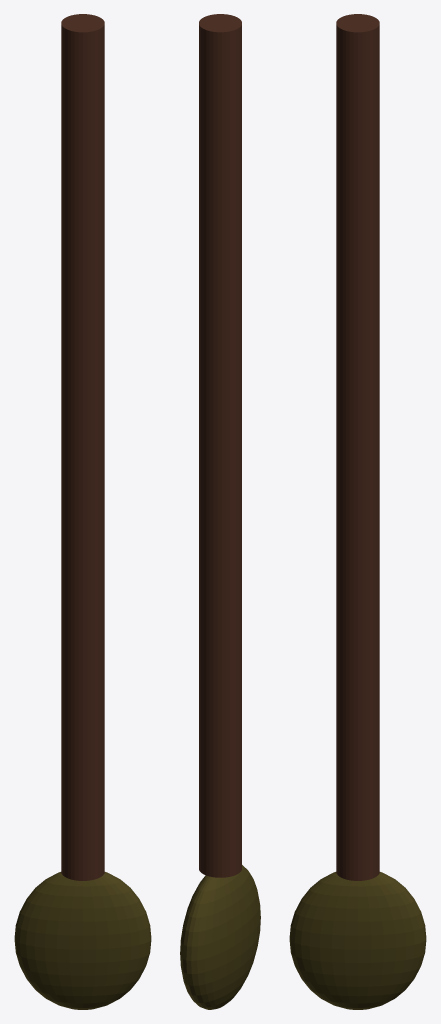
The model's file is BroomStick.fbx.
3 renders of one model, left to right at view 1: azimuth 90°, elevation 25°; view 2: azimuth 150°, elevation 25°; view 3: azimuth 270°, elevation 25°, orthographic.
Parts seen in each view (by area): view 1: Cylinder, Sphere; view 2: Cylinder, Sphere; view 3: Cylinder, Sphere.
Part boxes in pixels (<box>): Cylinder: <box>61,14,104,880</box>; Sphere: <box>14,872,151,1009</box>; Cylinder: <box>199,14,241,877</box>; Sphere: <box>180,865,260,1009</box>; Cylinder: <box>336,14,379,880</box>; Sphere: <box>289,872,426,1009</box>.
Bounding box in the file's own units: 33.81 × 731 × 92.07.
